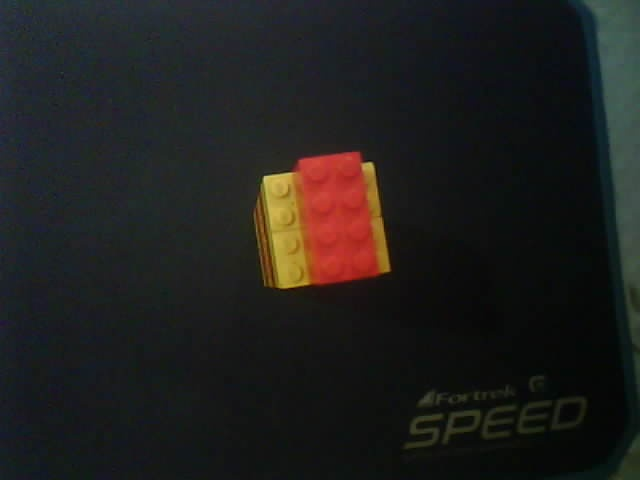lego: (251, 149, 394, 292)
